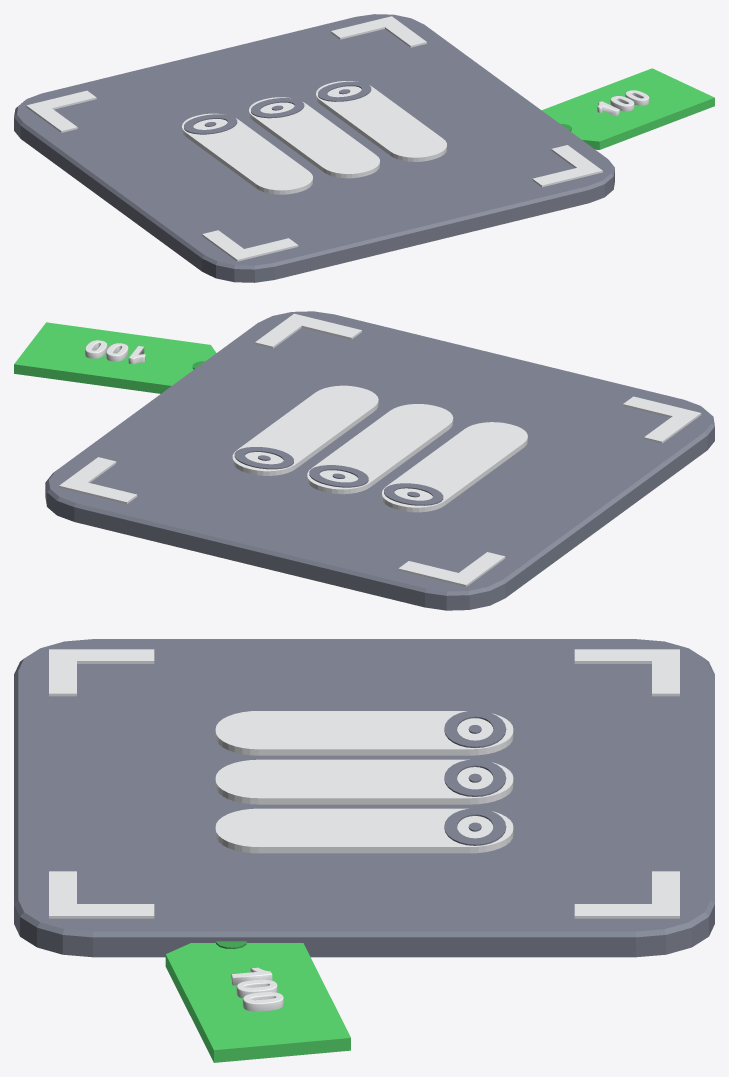
File: Icon_Pad_LogDam.glb
The picture shows the model from 3 angles, top to bottom: view 1: azimuth 30°, elevation 25°; view 2: azimuth 150°, elevation 25°; view 3: azimuth 270°, elevation 25°; orthographic projection. The views are drawn at different scales.
Visible parts, largest first — view 1: Icon_Pad_LogDam_Base, Icon_Pad_LogDam_Pictogram, Icon_Pad_LogDam_PriceTag, Icon_Pad_LogDam_Corner_Brackets, Icon_Pad_LogDam_PriceText; view 2: Icon_Pad_LogDam_Base, Icon_Pad_LogDam_Pictogram, Icon_Pad_LogDam_PriceTag, Icon_Pad_LogDam_Corner_Brackets, Icon_Pad_LogDam_PriceText; view 3: Icon_Pad_LogDam_Base, Icon_Pad_LogDam_Pictogram, Icon_Pad_LogDam_PriceTag, Icon_Pad_LogDam_Corner_Brackets, Icon_Pad_LogDam_PriceText.
Part boxes in pixels (x1,y1,x2,y2): Icon_Pad_LogDam_Base: [14, 14, 614, 282]; Icon_Pad_LogDam_Pictogram: [182, 81, 446, 194]; Icon_Pad_LogDam_PriceTag: [542, 68, 714, 149]; Icon_Pad_LogDam_Corner_Brackets: [26, 16, 602, 261]; Icon_Pad_LogDam_PriceText: [597, 90, 649, 116]; Icon_Pad_LogDam_Base: [45, 311, 714, 610]; Icon_Pad_LogDam_Pictogram: [232, 385, 527, 512]; Icon_Pad_LogDam_PriceTag: [14, 322, 216, 393]; Icon_Pad_LogDam_Corner_Brackets: [59, 313, 701, 586]; Icon_Pad_LogDam_PriceText: [85, 340, 145, 364]; Icon_Pad_LogDam_Base: [14, 639, 714, 957]; Icon_Pad_LogDam_Pictogram: [215, 710, 513, 853]; Icon_Pad_LogDam_PriceTag: [165, 941, 350, 1062]; Icon_Pad_LogDam_Corner_Brackets: [49, 649, 679, 918]; Icon_Pad_LogDam_PriceText: [231, 967, 283, 1011].
Size of the model in its own units: 1.09 by 0.0398 by 0.8.
